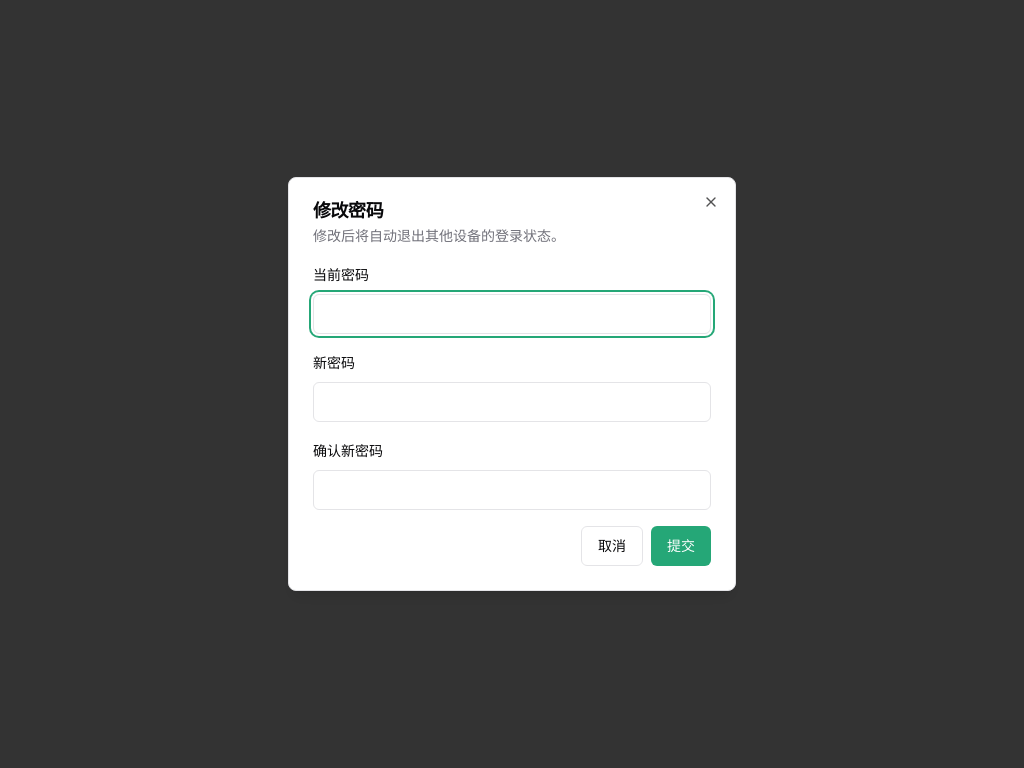
it: ChangePasswordDialog › 新密码 < 8 显示客户端校验, 不发请求
Type "ok-curr-1" into the password field with test id "pwd-current".
click(512, 314); type("ok-curr-1")  # box [313,294,711,334]
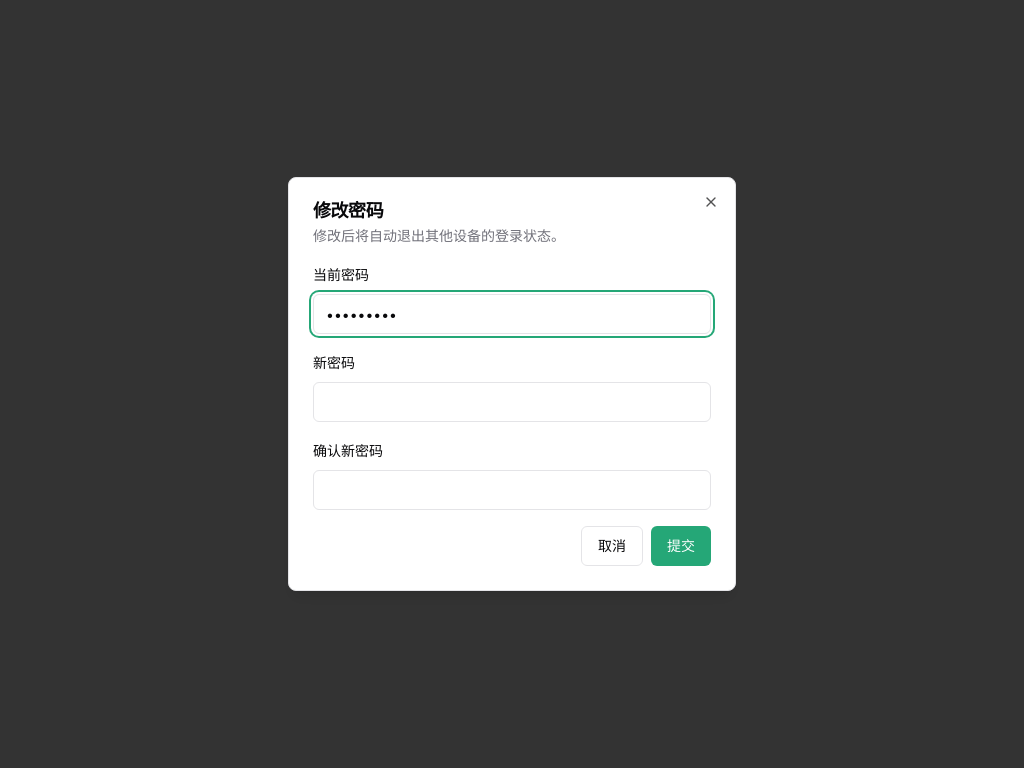
Type "short" into the password field with test id "pwd-new".
click(512, 402); type("short")  # box [313,382,711,422]
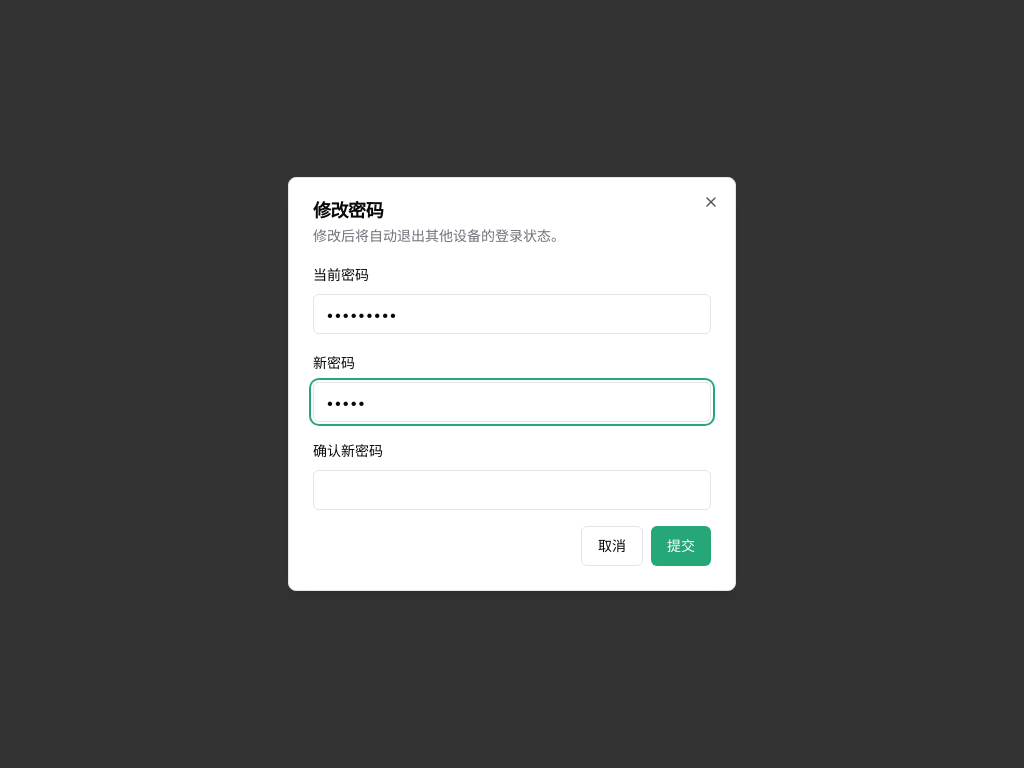
Type "short" into the password field with test id "pwd-confirm".
click(512, 490); type("short")  # box [313,470,711,510]
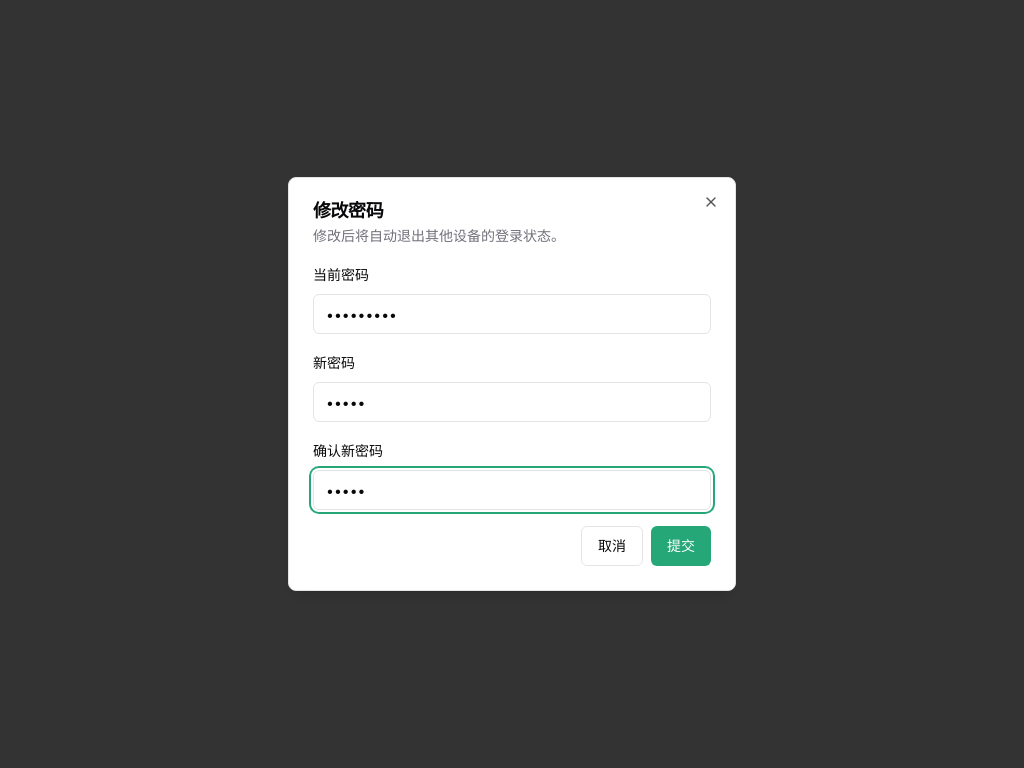
Click the button with test id "pwd-submit".
click(681, 546)  # box [651,526,711,566]
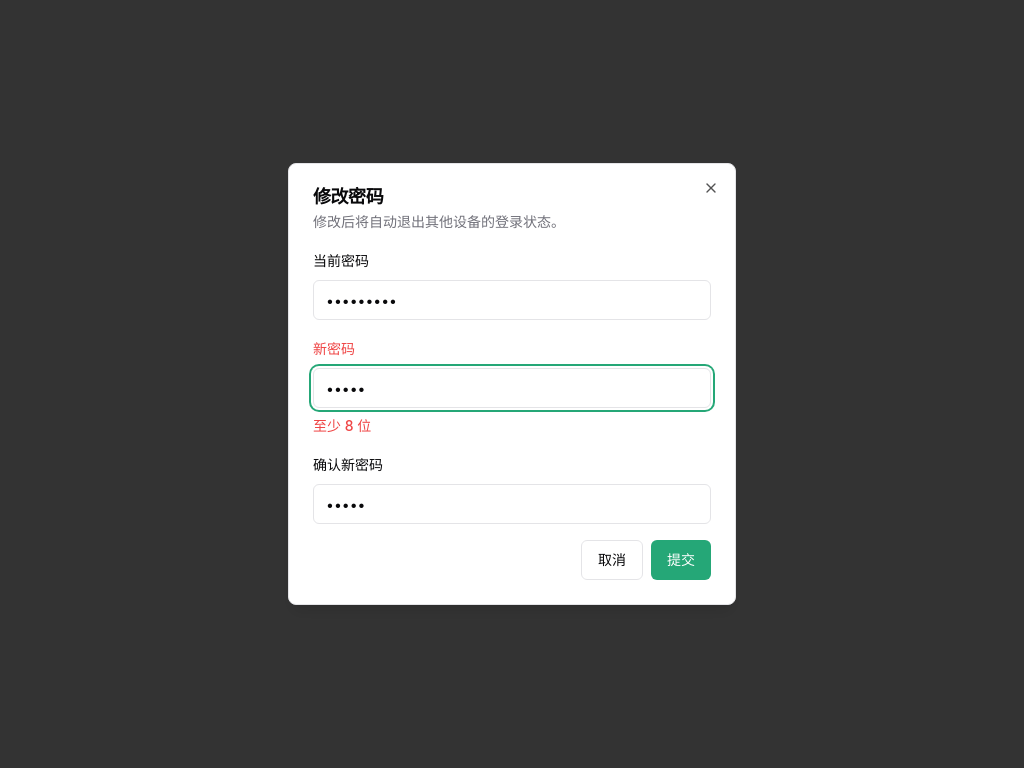
Check: the text "至少 8 位" is shown, box [313,417,371,434]
